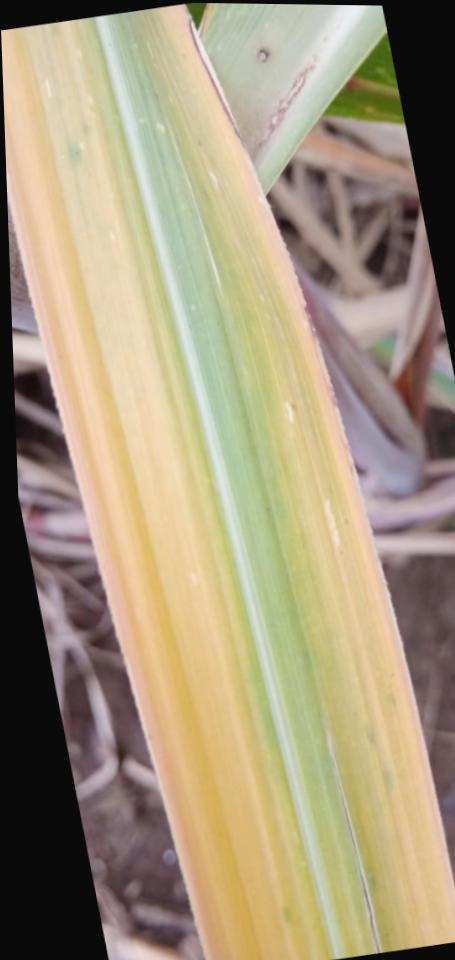Rust: (190, 20, 247, 147), (302, 291, 348, 438), (256, 63, 319, 148), (255, 48, 271, 64)
Yellow: (1, 19, 333, 960), (136, 5, 455, 957)
